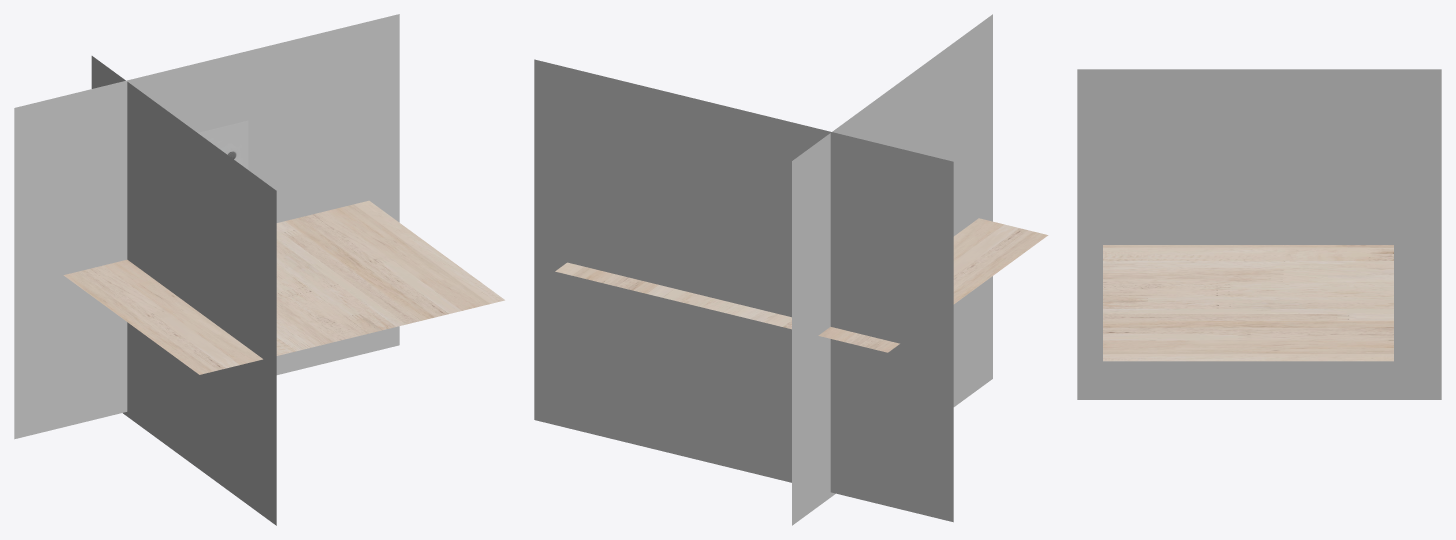
File: museum.glb
The picture shows the model from 3 angles, left to right: view 1: azimuth 30°, elevation 25°; view 2: azimuth 150°, elevation 25°; view 3: azimuth 270°, elevation 25°; orthographic projection. The views are drawn at different scales.
Parts seen in each view (by area): view 1: wall 2, wall 1, floor, canvas; view 2: wall 2, wall 1, floor; view 3: wall 1, floor.
Boxes of the visible parts, box(x1,y1,x2,y2) form: wall 2: box(14, 14, 399, 439); wall 1: box(91, 56, 276, 525); floor: box(63, 200, 504, 374); canvas: box(198, 120, 248, 169); wall 2: box(534, 59, 953, 522); wall 1: box(792, 14, 992, 525); floor: box(555, 218, 1048, 352); wall 1: box(1077, 69, 1441, 399); floor: box(1103, 245, 1393, 361).
Size of the model in its own units: 25.18 by 21 by 20.93.
Materials: 4 (2 with a texture image).
